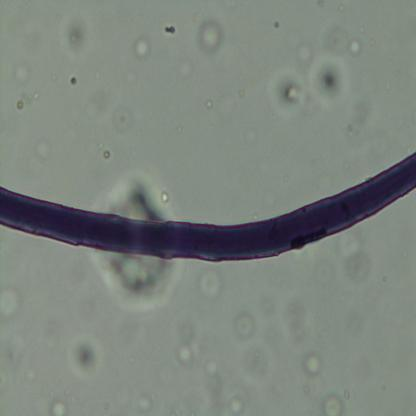Background material: (86, 248, 187, 309), (106, 168, 177, 222), (272, 61, 309, 122), (312, 54, 354, 106), (340, 233, 376, 287), (188, 352, 225, 403), (69, 335, 106, 380), (238, 340, 275, 384), (318, 11, 352, 54), (198, 18, 227, 58), (348, 98, 374, 139), (0, 282, 24, 322), (168, 46, 198, 77), (195, 268, 224, 300), (110, 100, 137, 134), (62, 16, 90, 46), (320, 392, 345, 415), (235, 312, 255, 340), (304, 349, 322, 379), (128, 390, 151, 413), (133, 37, 154, 61), (177, 340, 194, 369), (226, 389, 245, 412), (294, 42, 314, 62), (15, 63, 29, 90), (32, 141, 49, 159), (49, 400, 69, 414), (347, 40, 362, 57), (164, 22, 180, 36), (101, 147, 115, 162), (14, 94, 25, 113), (202, 98, 213, 112), (272, 18, 282, 30), (70, 74, 79, 86)
Microfibre: (0, 147, 416, 265)
